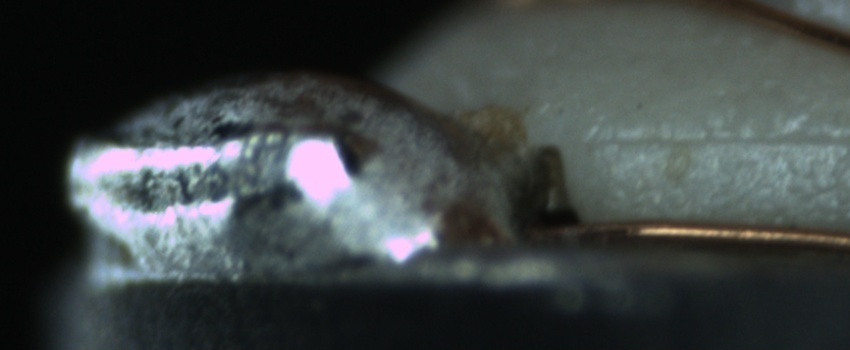DL: (594, 111, 849, 175)
